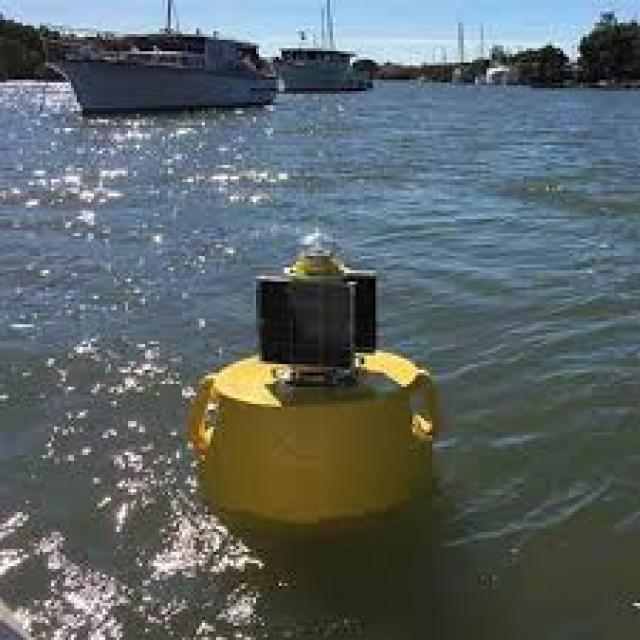marque: (173, 197, 458, 545)
